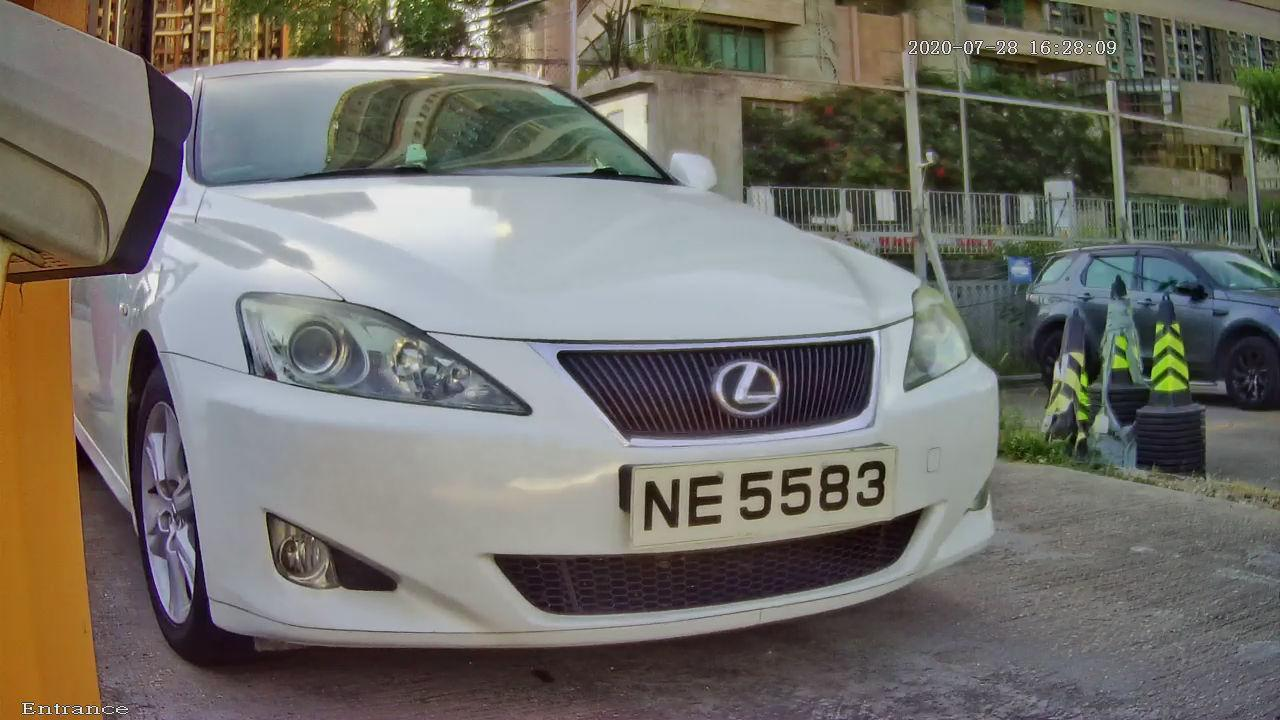privatecar: (63, 10, 1081, 698)
